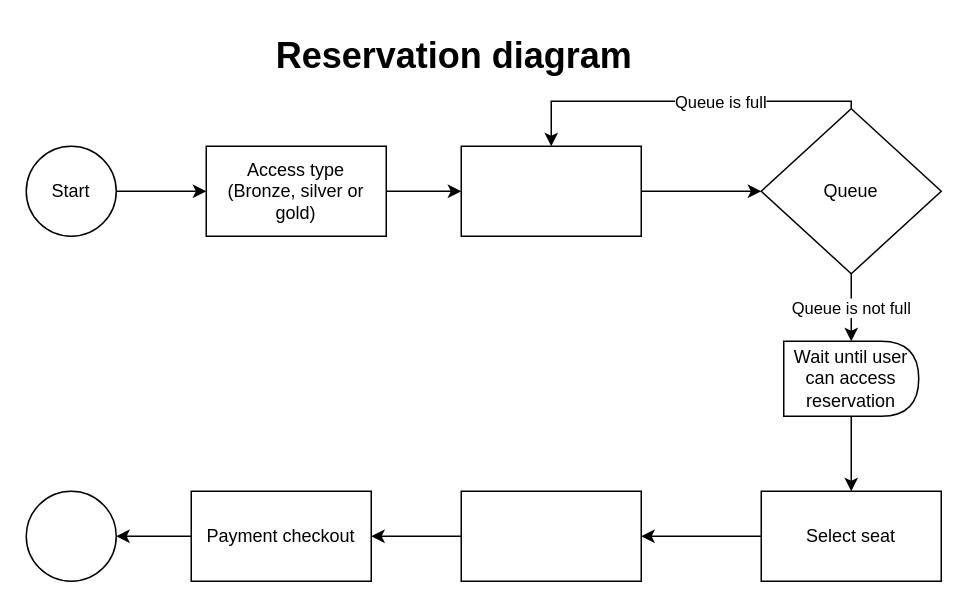
Image size: 968x608. Some labels were removed from this diagram. Each missing label, with the box of its shape:
End: (25, 490, 116, 581)
Payment review: (460, 490, 641, 581)
Reservation date: (460, 145, 641, 236)
